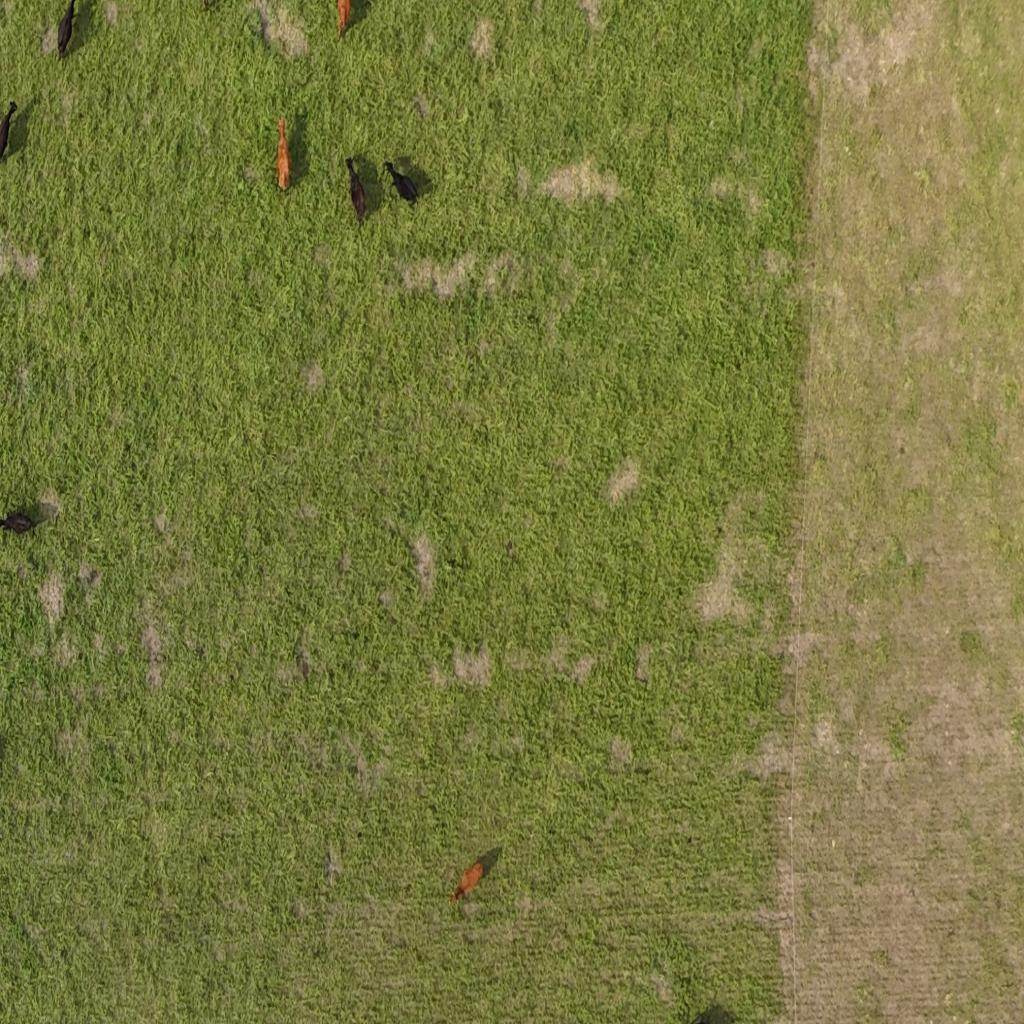cow: (448, 844, 501, 912), (344, 153, 375, 229), (44, 0, 77, 64), (336, 0, 379, 42), (382, 159, 420, 206), (1, 100, 23, 170), (275, 118, 292, 200), (1, 509, 49, 537)
